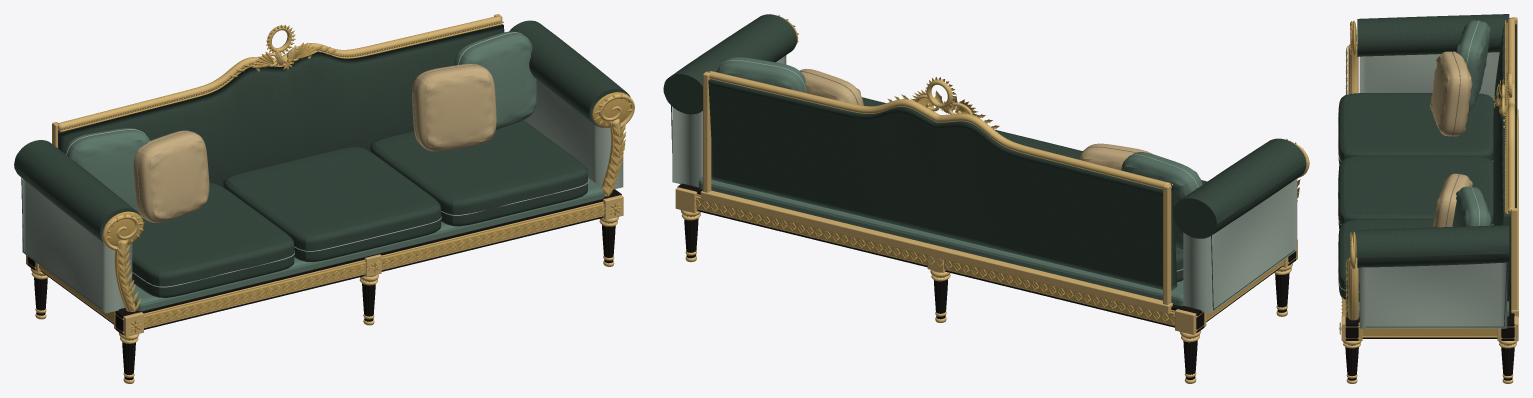
3 renders of one model, left to right at view 1: azimuth 30°, elevation 25°; view 2: azimuth 150°, elevation 25°; view 3: azimuth 270°, elevation 25°, orthographic. The views are drawn at different scales.
Parts seen in each view (by area): view 1: Trianon three-seat sofa | 50472.0 | salon-1 web batch; view 2: Trianon three-seat sofa | 50472.0 | salon-1 web batch; view 3: Trianon three-seat sofa | 50472.0 | salon-1 web batch.
Boxes of the visible parts, x1,y1,x2,y2 form: Trianon three-seat sofa | 50472.0 | salon-1 web batch: (14,14,634,383); Trianon three-seat sofa | 50472.0 | salon-1 web batch: (663,14,1309,383); Trianon three-seat sofa | 50472.0 | salon-1 web batch: (1338,14,1518,383).
Bounding box in the file's own units: 2.65 × 1.11 × 0.88.
8 materials, 1 textured.
